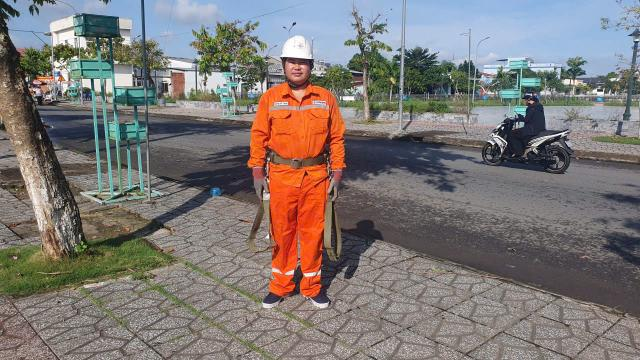gloves: (319, 166, 348, 206), (248, 173, 278, 199)
harness: (257, 142, 331, 175)
helmet: (278, 28, 319, 64)
shoes: (298, 281, 338, 313), (252, 283, 288, 312)
